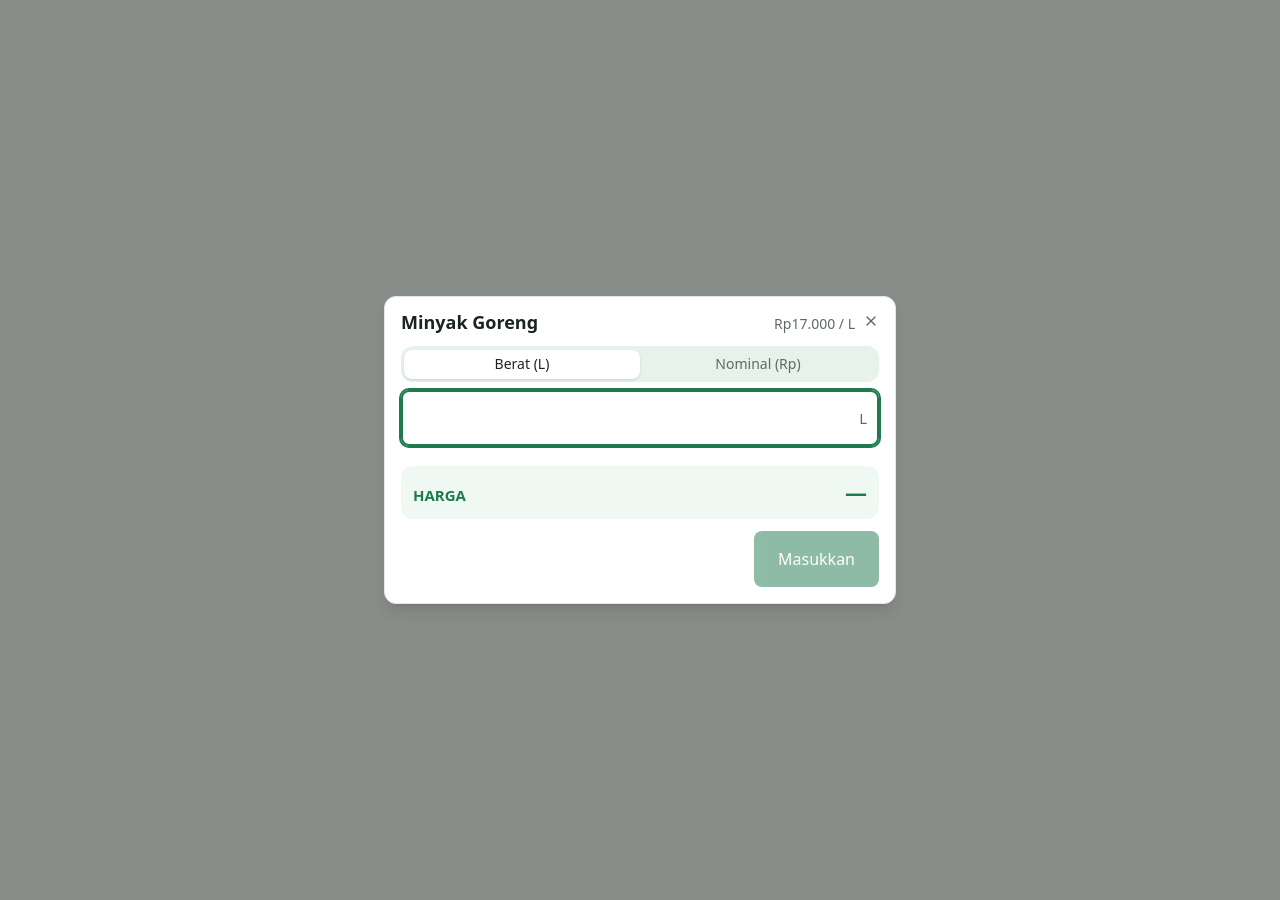
Test case: Minyak curah memakai label 'Berat (L)' dan '≈ … L'
Expected: the tab "Berat (L)" is shown, [404,350,640,378]
Click the tab "Nominal (Rp)" at (758, 364), box [640,350,876,378]
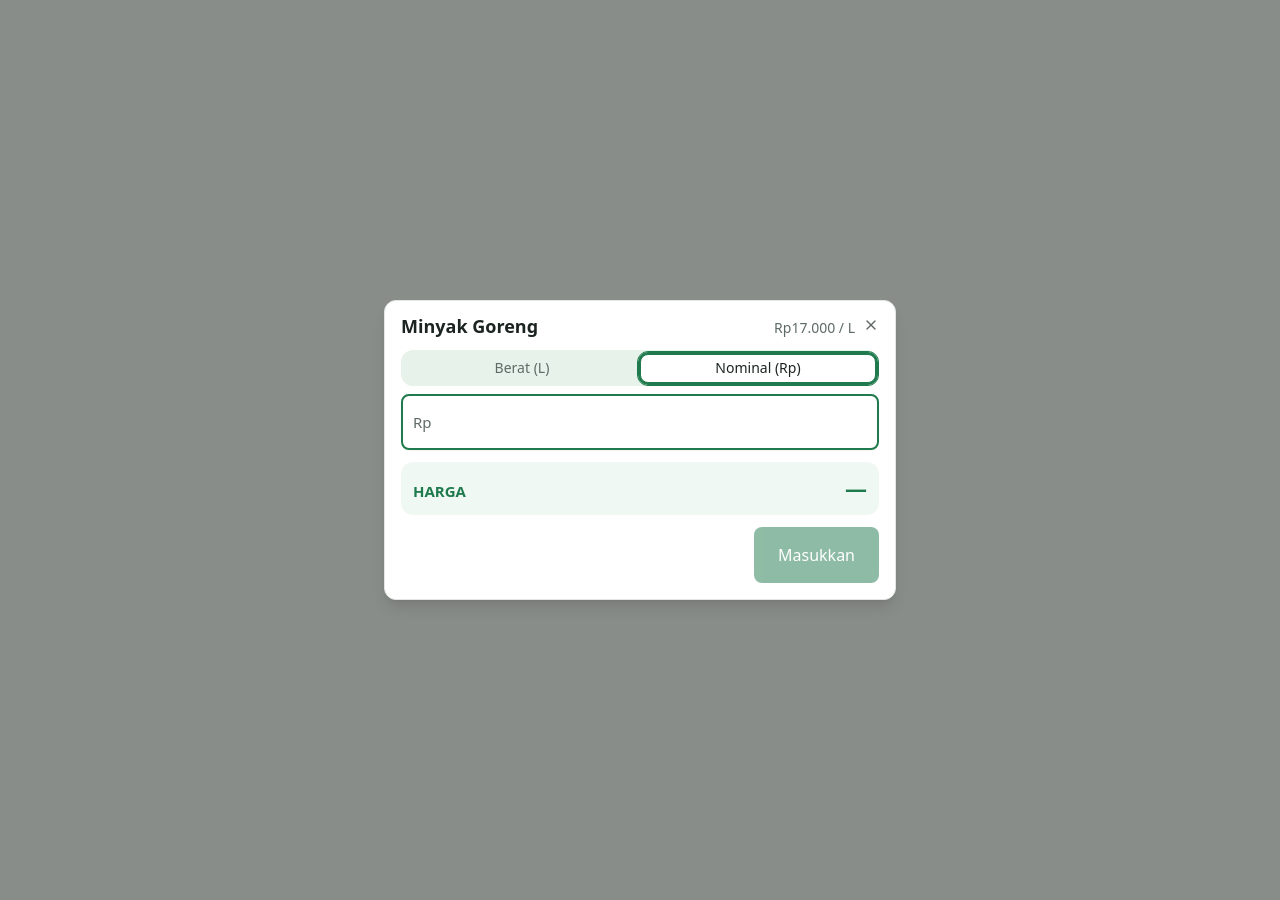
Type "17000" into the field named "Nominal (Rp)" at (640, 422), box [401,394,879,450]
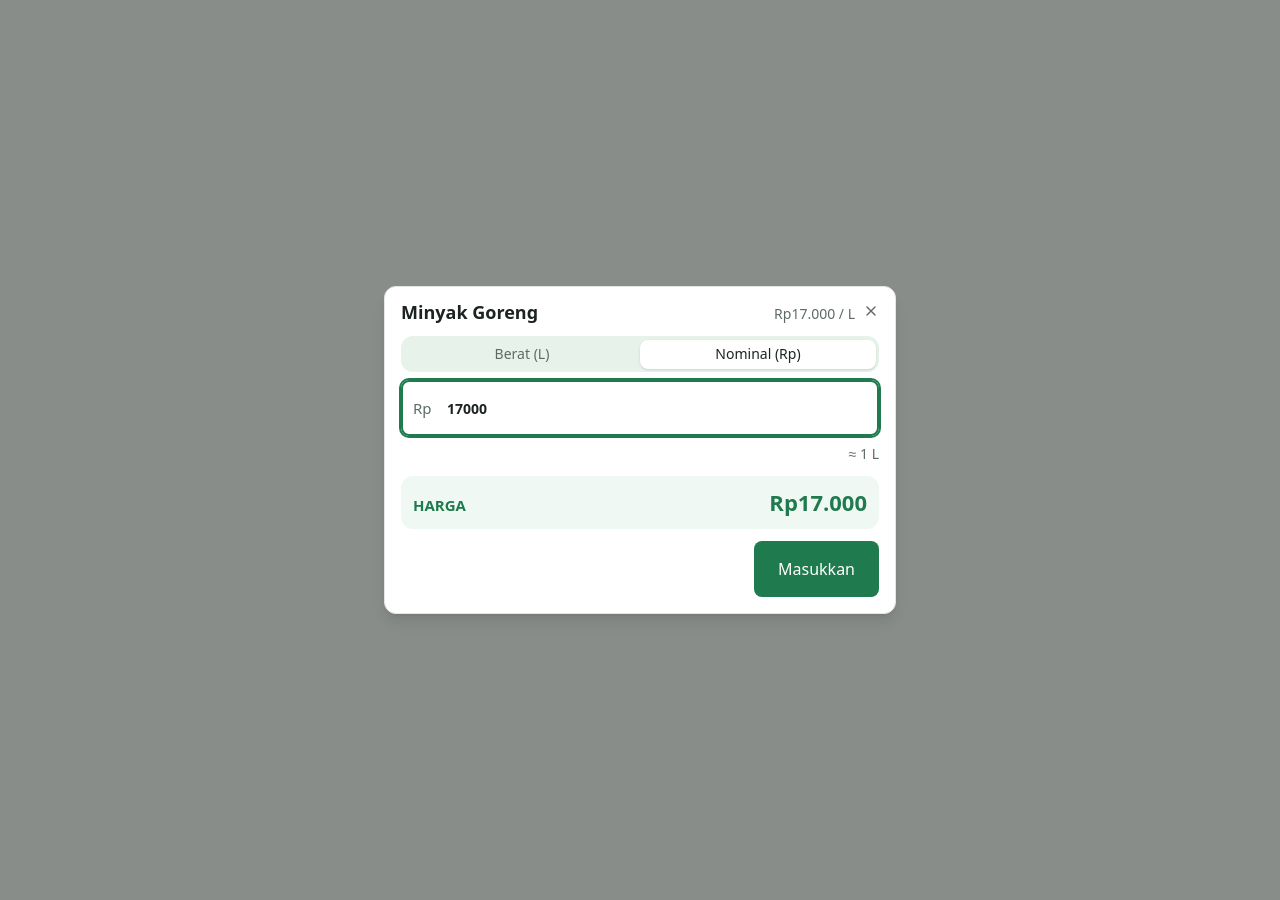
Now the text "≈ 1 L" is shown, box [849,444,879,463]
